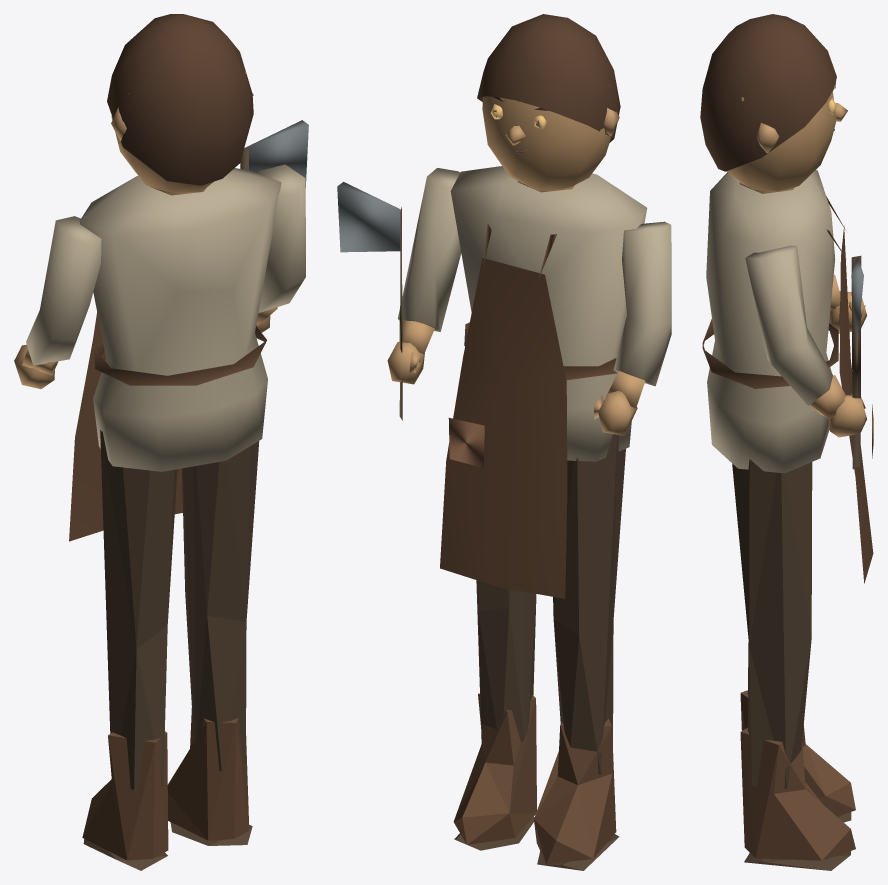
Rendered from SM_NPC_ROCKY_BAJA.glb.
3 views of the same model, side by side, from view 1: azimuth 30°, elevation 25°; view 2: azimuth 150°, elevation 25°; view 3: azimuth 270°, elevation 25° (orthographic). The views are drawn at different scales.
Parts seen in each view (by area): view 1: SM_NPC_ROCKY_BODY, SM_NPC_ROCKY_HEAD, SM_NPC_ROCKY_ARMS; view 2: SM_NPC_ROCKY_BODY, SM_NPC_ROCKY_ARMS, SM_NPC_ROCKY_HEAD; view 3: SM_NPC_ROCKY_BODY, SM_NPC_ROCKY_HEAD, SM_NPC_ROCKY_ARMS.
Part boxes in pixels (box(x1,y1,x2,y2)): SM_NPC_ROCKY_BODY: box(69, 168, 281, 870); SM_NPC_ROCKY_HEAD: box(107, 14, 253, 192); SM_NPC_ROCKY_ARMS: box(14, 120, 308, 388); SM_NPC_ROCKY_BODY: box(440, 166, 647, 870); SM_NPC_ROCKY_ARMS: box(337, 168, 671, 435); SM_NPC_ROCKY_HEAD: box(477, 14, 620, 191); SM_NPC_ROCKY_BODY: box(702, 170, 873, 870); SM_NPC_ROCKY_HEAD: box(700, 14, 847, 191); SM_NPC_ROCKY_ARMS: box(745, 245, 866, 469).
Size of the model in its own units: 0.6894 by 1.81 by 0.3473.
